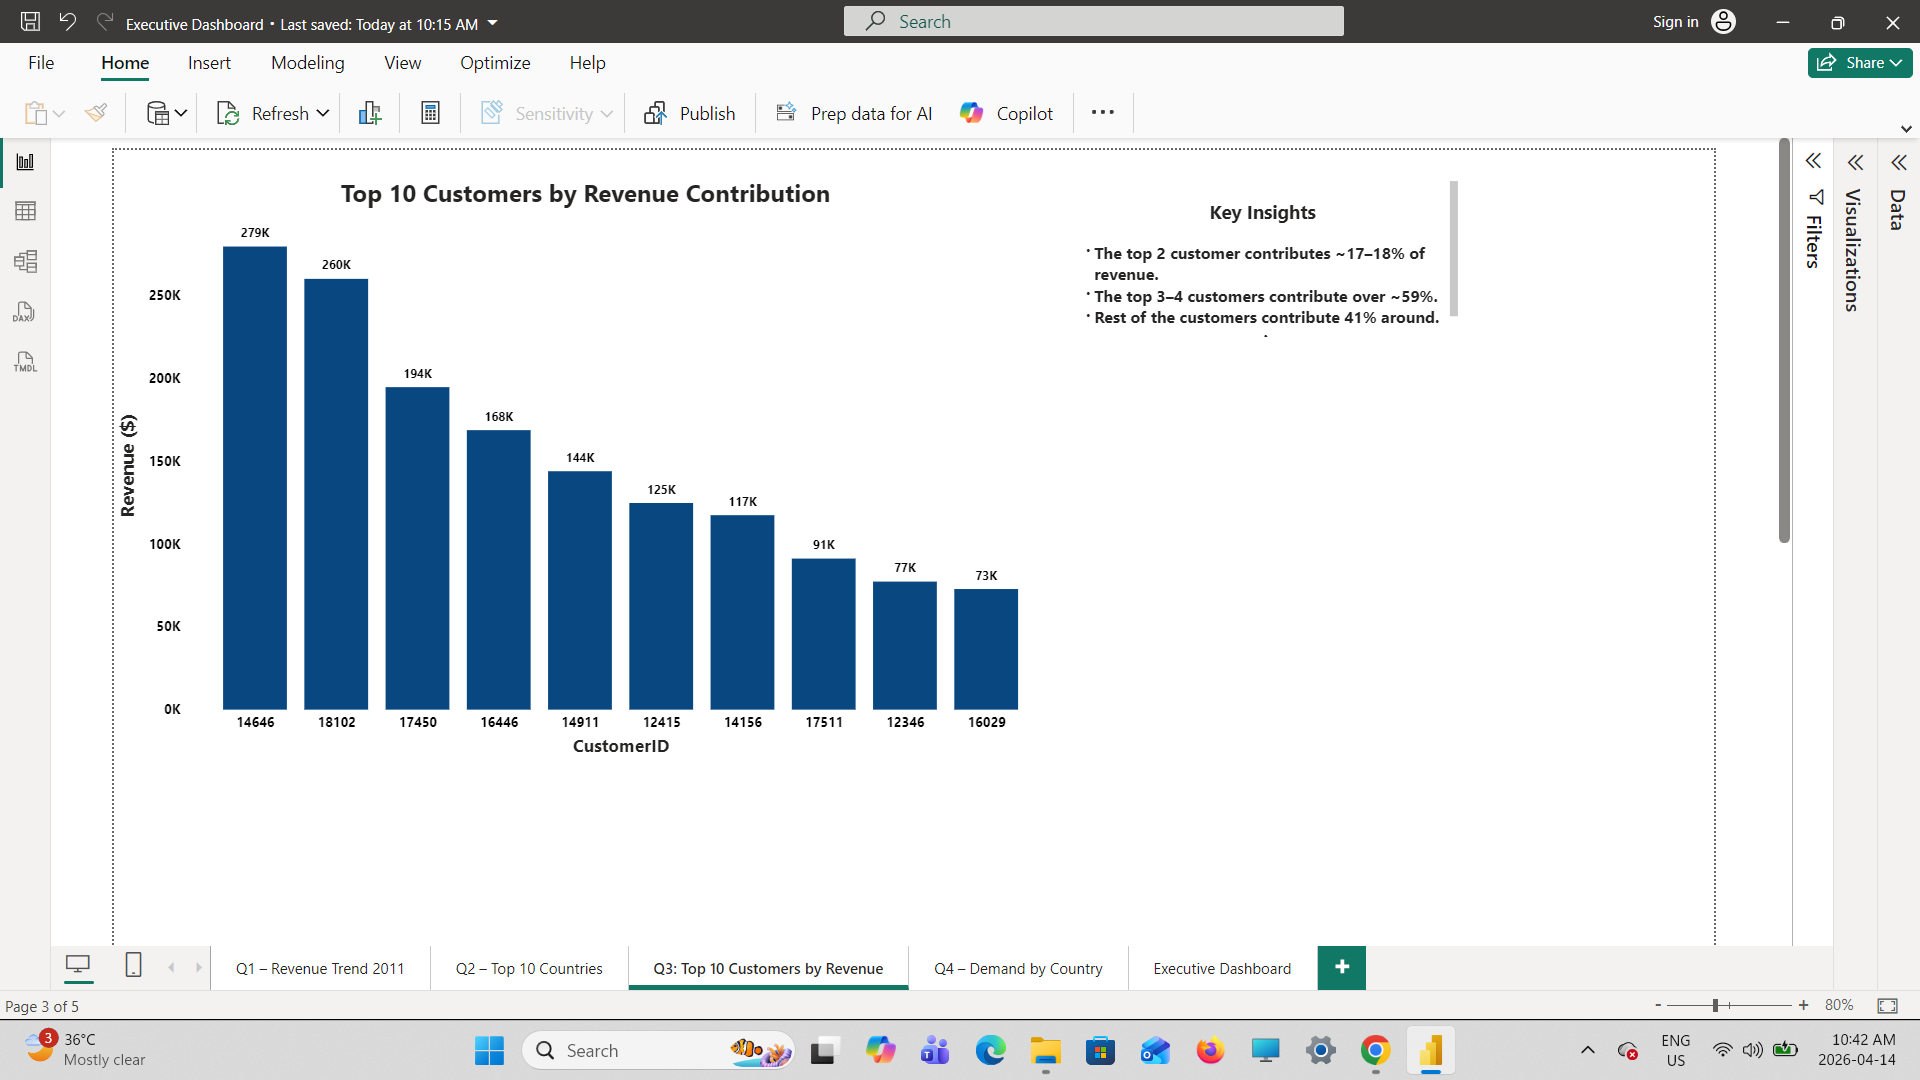

Layout of this report page (visuals, bound fields, positions):
{"tool":"powerbi","page":{"name":"Q3: Top 10 Customers by Revenue","canvas":[1600,1600],"ordinal":2},"visuals":[{"type":"clusteredColumnChart","title":"Top 10 Customers by Revenue Contribution","fields":{"Category":["Online Retail.CustomerID"],"Y":["Online Retail.Total Revenue"]},"box":[0,26,943,585],"z":0},{"type":"textbox","box":[958,26,391,166],"z":2000}]}

Visuals, with their boxes on the page's 1600x1600 design canvas (x1, y1, x2, y2). These are canvas units, not pixel positions in the 1920x1080 screenshot, which may show the page scaled, cropped or inside an application window:
"Top 10 Customers by Revenue Contribution" clusteredColumnChart: <region>0, 26, 943, 611</region>
textbox: <region>958, 26, 1349, 192</region>
